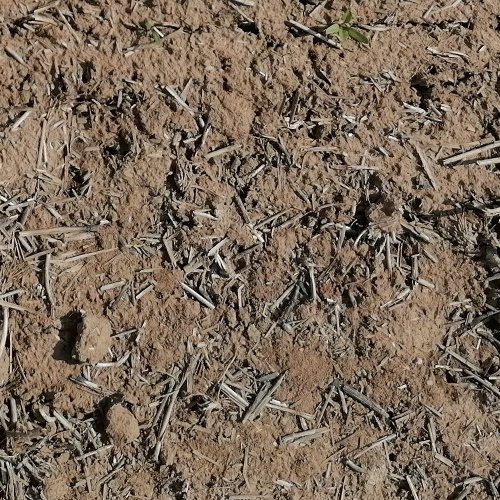beet: (323, 11, 371, 46)
